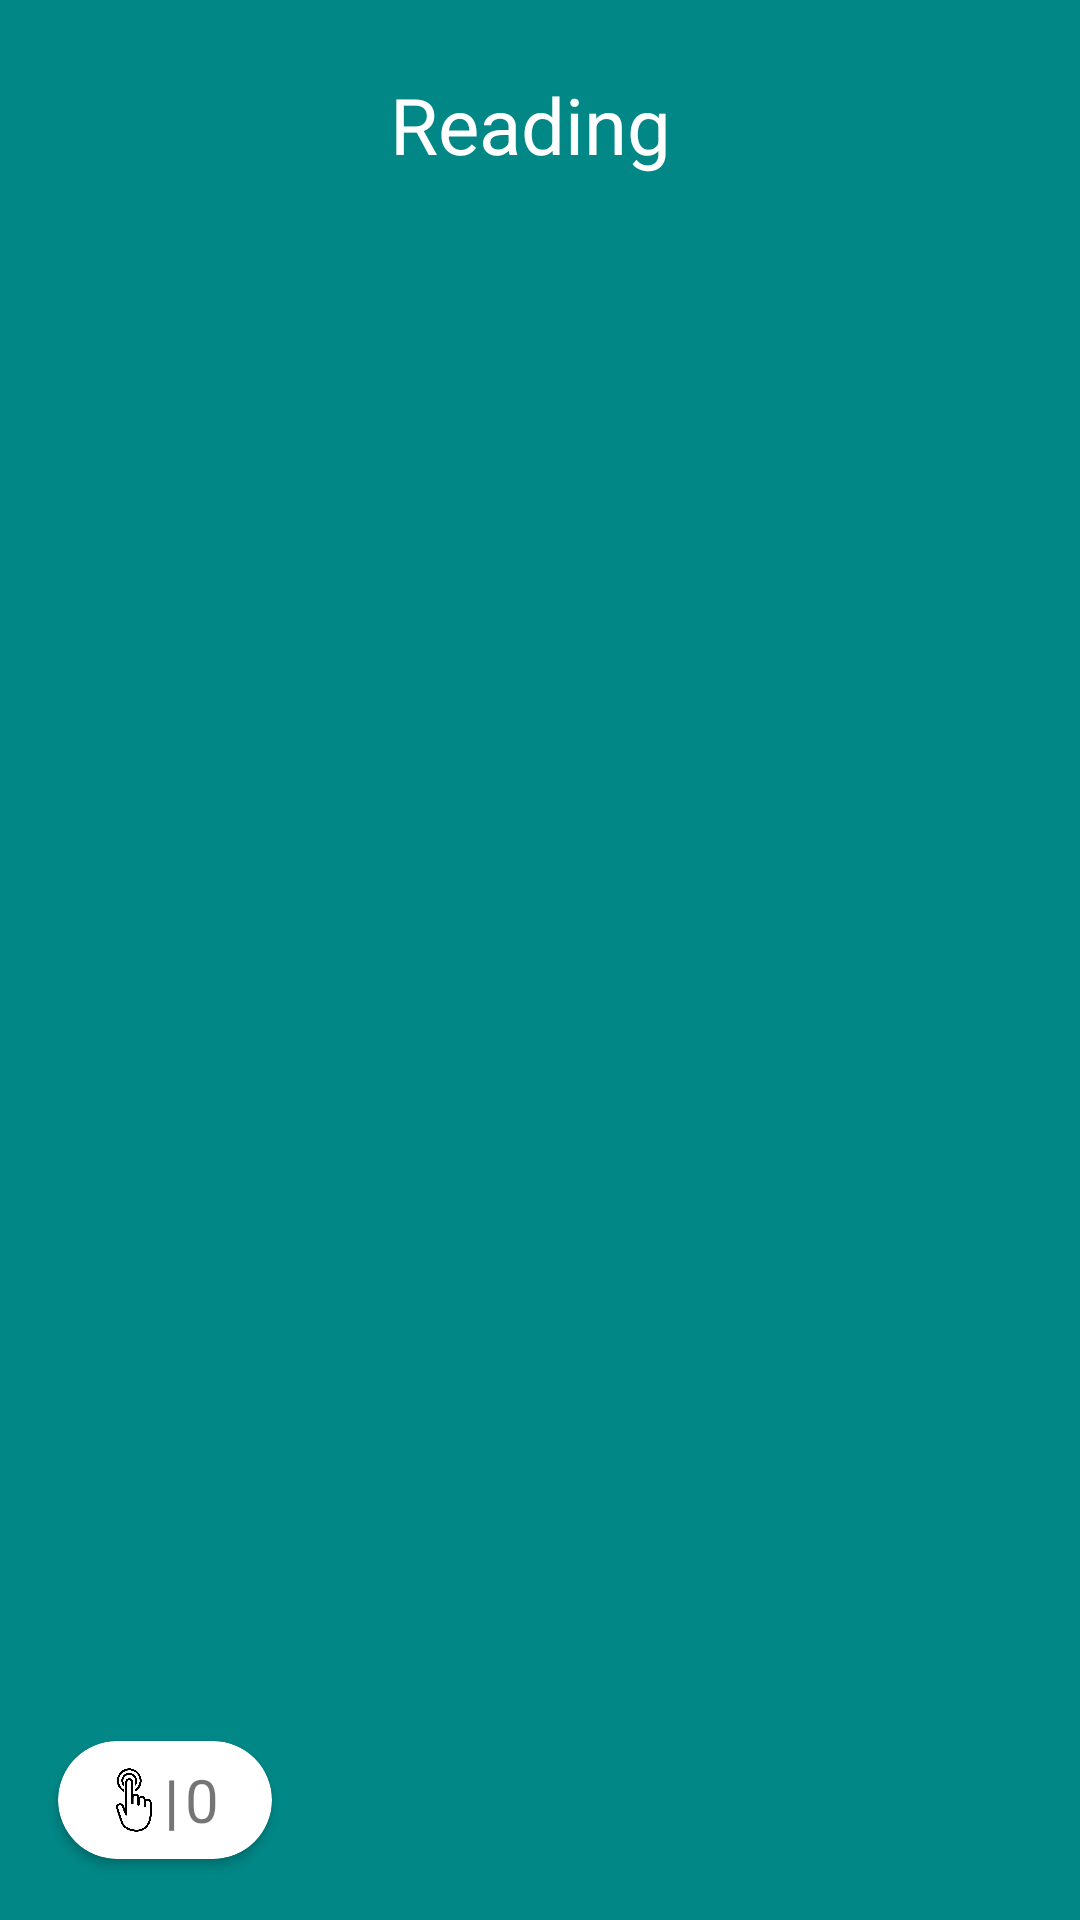

Named icons in this screenshot (1080px×1920px) and their centers, point (x, y):
Number of Touch: point (134, 1800)
